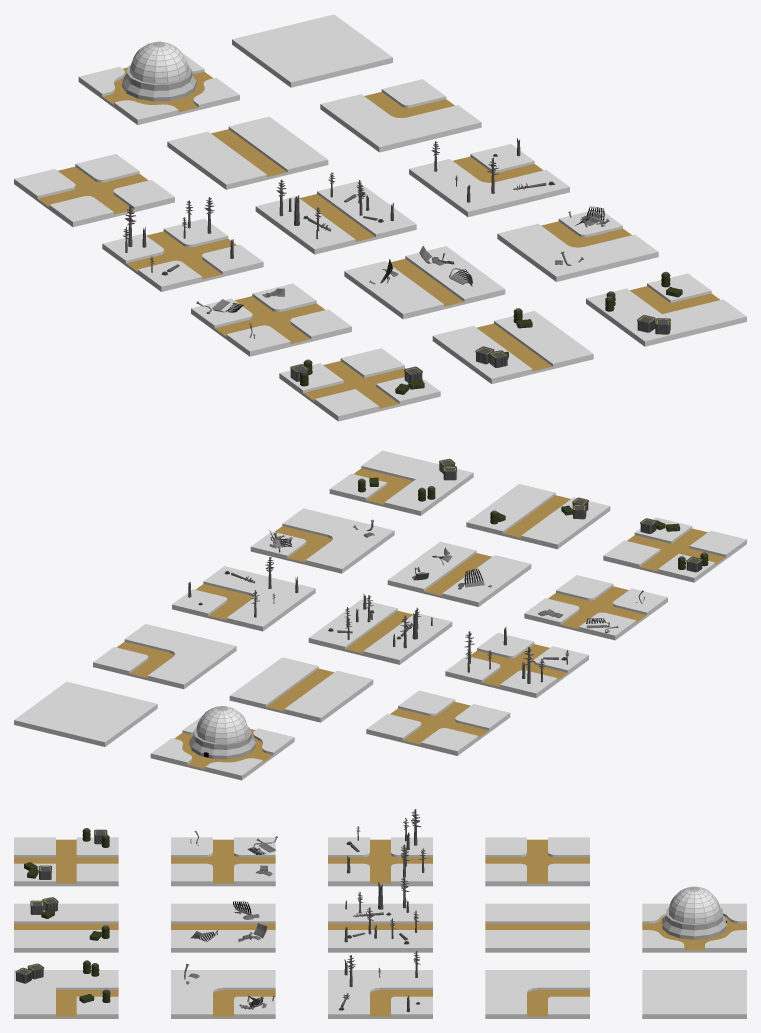
Rendered from Tile Assets.fbx.
The picture shows the model from 3 angles, top to bottom: view 1: azimuth 30°, elevation 25°; view 2: azimuth 150°, elevation 25°; view 3: azimuth 270°, elevation 25°; orthographic projection. The views are drawn at different scales.
Visible parts, largest first — view 1: Bio Cross, Bio straight, Rations cross, Bio Curve, Rations straight, Blank Tile, Scrap Straight, Rations Curve, Scrap Curve, Straigh, Scrap Cross, Curve (+3 smaller); view 2: Bio Curve, Rations Curve, Bio Cross, Bio straight, Scrap Curve, Rations cross, Blank Tile, Curve, Rations straight, Scrap Straight, Straigh, Plane (+3 smaller); view 3: Bio straight, Bio Cross, Rations cross, Rations Curve, Rations straight, Bio Curve, Scrap Straight, Straigh, Scrap Cross, Plane, Scrap Curve, Blank Tile (+3 smaller).
Part boxes in pixels (x1,y1,x2,y2): Bio Cross: (102, 197, 263, 291); Bio straight: (255, 172, 416, 254); Rations cross: (279, 348, 440, 421); Bio Curve: (409, 138, 569, 217); Rations straight: (432, 308, 593, 383); Blank Tile: (232, 14, 392, 87); Scrap Straight: (344, 246, 505, 319); Rations Curve: (586, 271, 746, 346); Scrap Curve: (497, 206, 658, 281); Straigh: (167, 116, 328, 189); Scrap Cross: (191, 283, 351, 356); Curve: (320, 79, 481, 152); Bio Curve: (172, 557, 315, 631); Rations Curve: (329, 450, 473, 515); Bio Cross: (445, 627, 588, 698); Bio straight: (308, 593, 452, 664); Scrap Curve: (250, 508, 394, 573); Rations cross: (603, 517, 746, 582); Blank Tile: (14, 681, 157, 746); Curve: (93, 624, 236, 689); Rations straight: (466, 484, 610, 549); Scrap Straight: (387, 541, 531, 606); Straigh: (229, 657, 373, 722); Plane: (366, 690, 510, 755); Bio straight: (328, 876, 432, 952); Bio Cross: (328, 809, 432, 886); Rations cross: (14, 828, 118, 886); Rations Curve: (14, 960, 118, 1018); Rations straight: (14, 897, 118, 952); Bio Curve: (328, 951, 432, 1018); Scrap Straight: (171, 901, 275, 952); Straigh: (485, 903, 589, 952); Scrap Cross: (171, 830, 277, 886); Plane: (485, 837, 589, 886); Scrap Curve: (171, 963, 275, 1018); Blank Tile: (642, 970, 746, 1018).
Size of the model in its own units: 800 by 91.56 by 1400.
